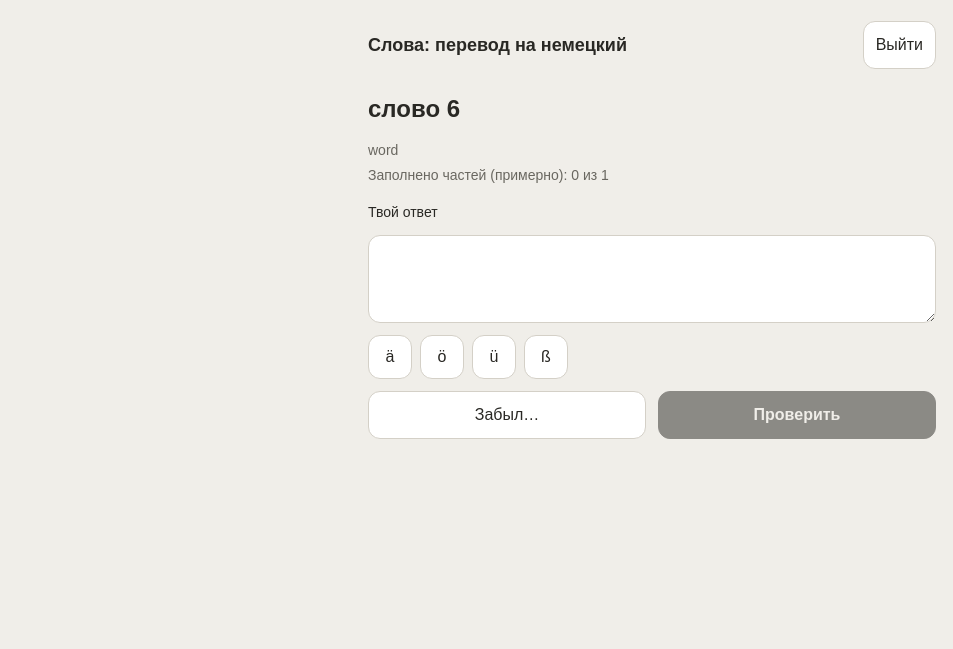
the written quiz: the own association after a mistake › none of their own: the invitation opens the card of the answered word and sends no command
Expected: the heading "слово 6" is shown, [368,95,460,122]
Type "falsch" into the text box at (652, 279), box [368,235,936,323]
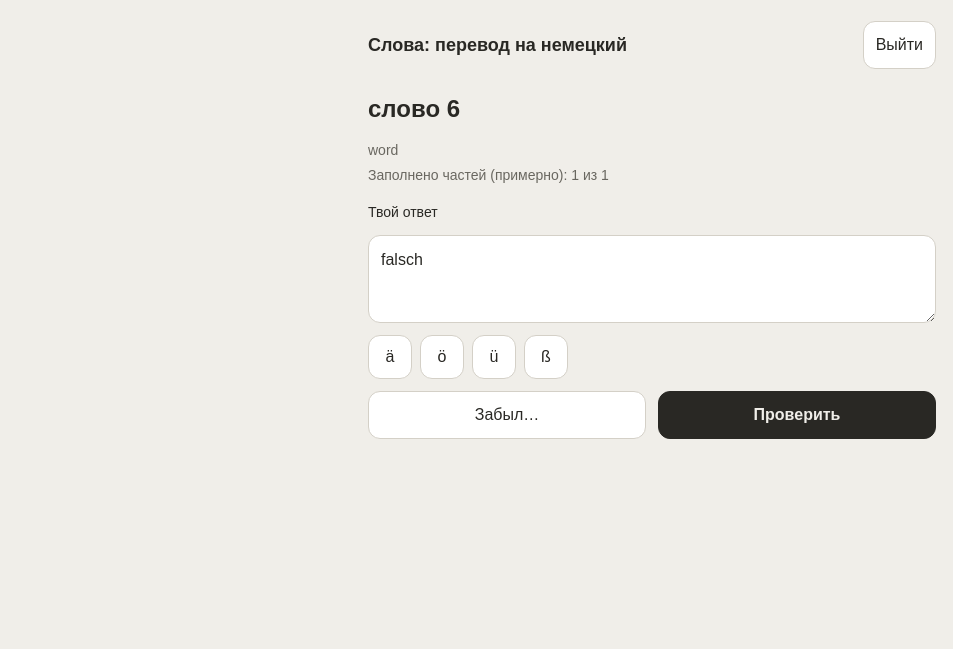
Click the button "Проверить" at (797, 415), box [658,391,936,439]
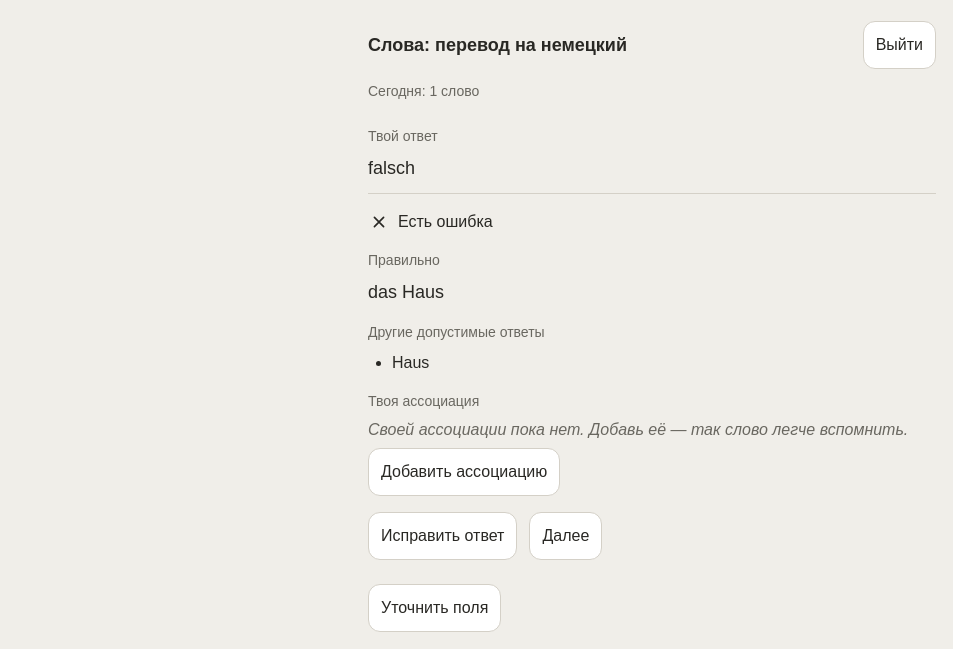
Expected: the text "Своей ассоциации пока нет" is shown, [368,421,908,438]
Click the button "Добавить ассоциацию" at (464, 472), box [368,448,560,496]
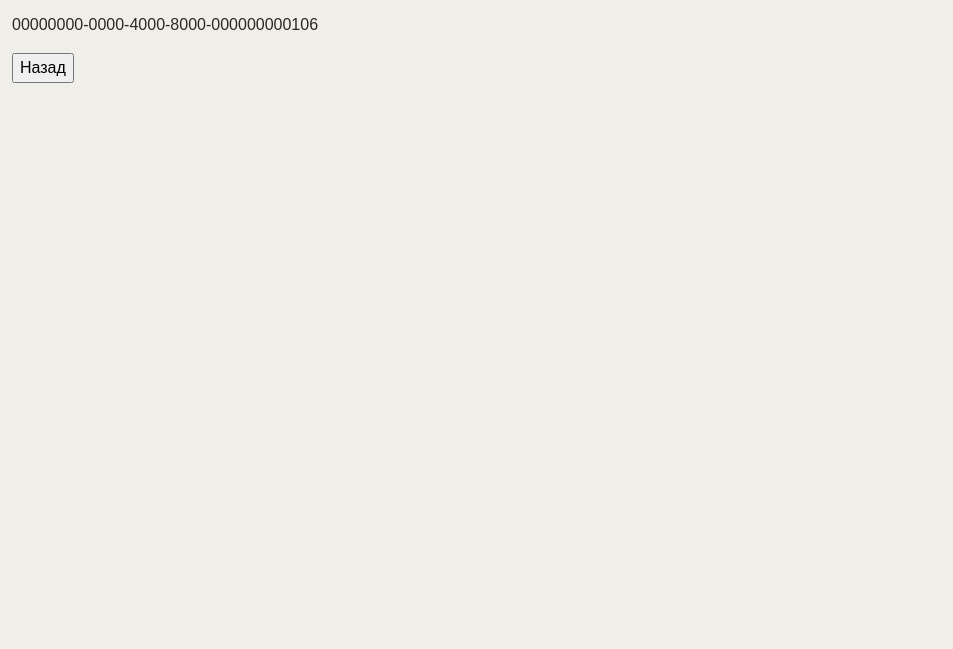
Expected: the element named "М12 card" shows "00000000-0000-4000-8000-000000000106", [12,16,318,33]
